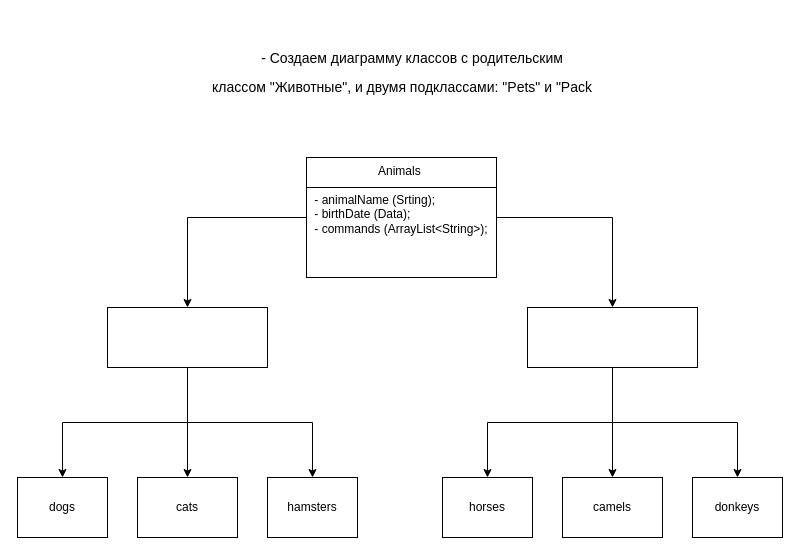
The diagram is 800 pixels wide and 555 high, and some of its shapes have lost their labels. Each missing label, with the centre of its shape:
"Pack_animals" belongs at point 612,337.
"Pets" belongs at point 187,337.
